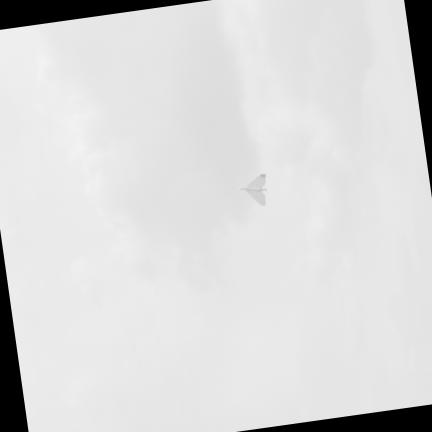Shahed: (238, 173, 265, 204)
